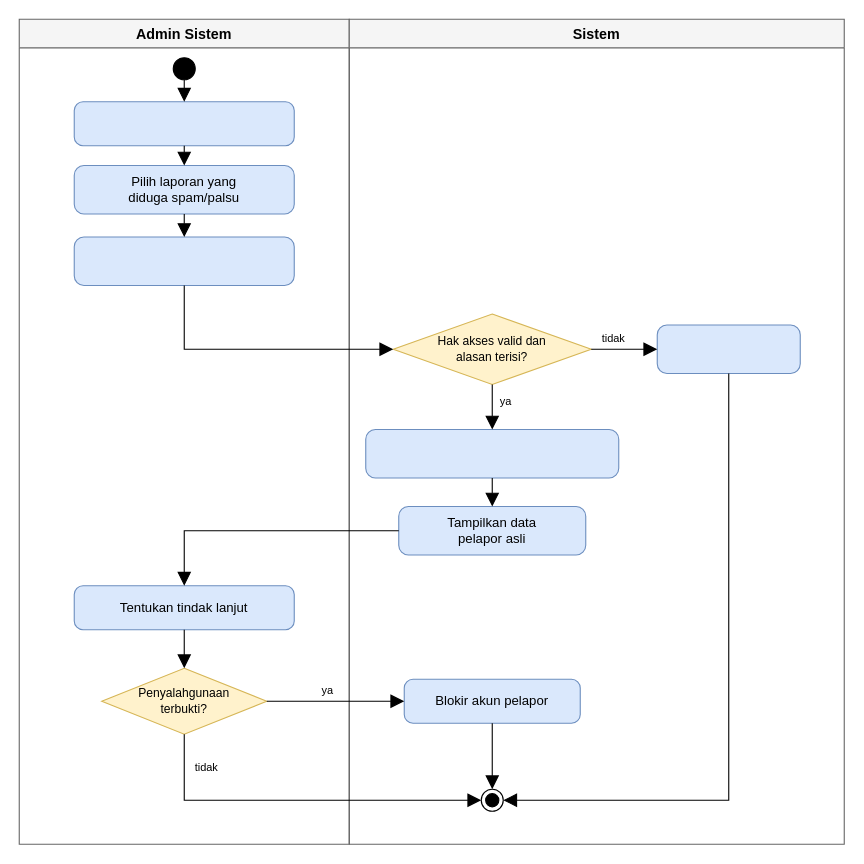
Image size: 864x864. Some labels were removed from this diagram. The centre of each missing label's shape, as x and y in pixels:
Catat audit log (admin, laporan, alasan, waktu): pixel 492 453
Isi alasan akses data pelapor: pixel 183 260
Login: pixel 183 123
Tolak akses dan tampilkan pesan: pixel 728 348
